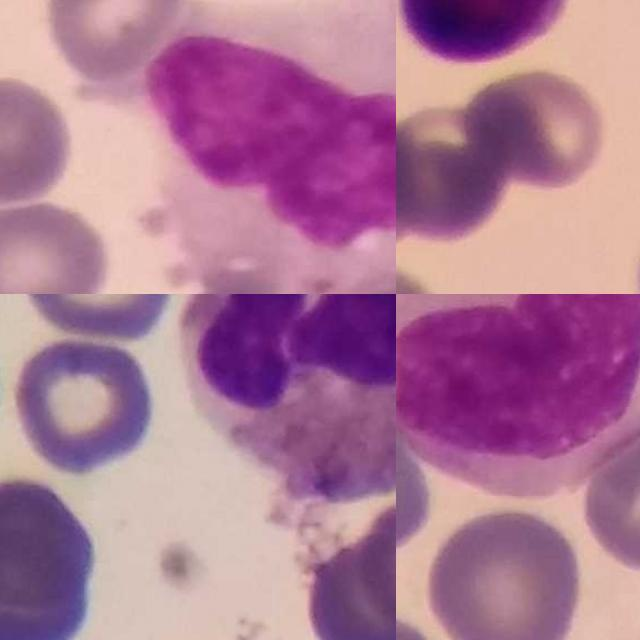Eosinophil: (185, 294, 396, 507)
Lymphocyte: (396, 0, 579, 63)
Monocyte: (140, 0, 396, 285), (396, 294, 640, 496)
